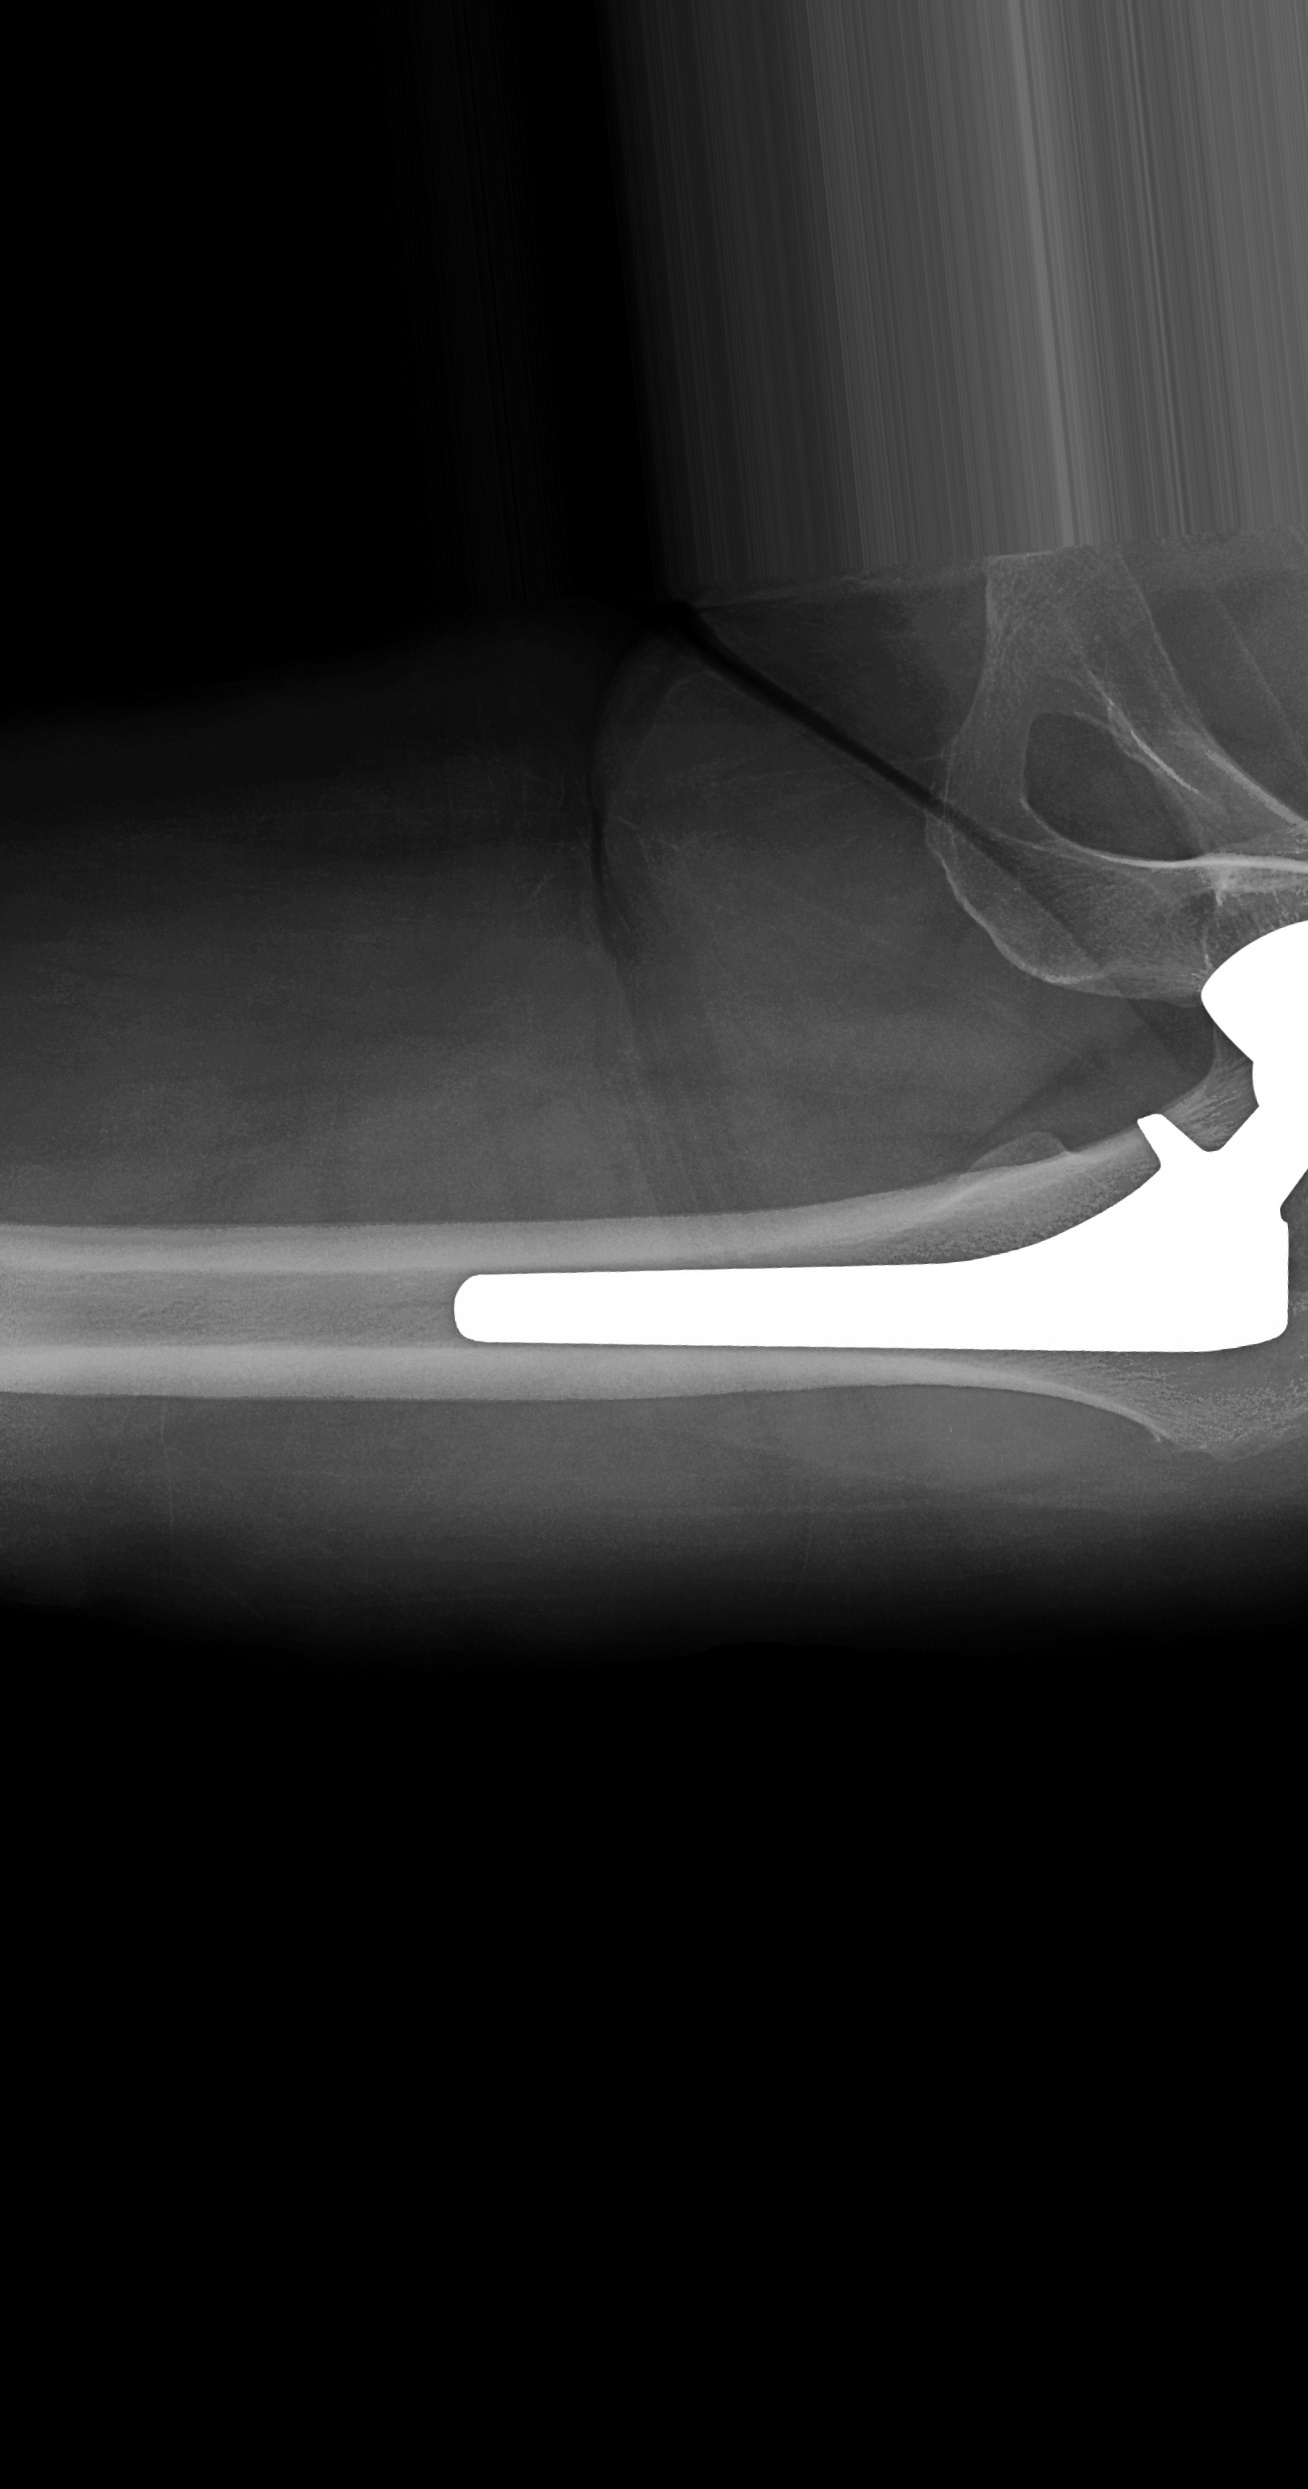Hip - APR - Zimmer: (342, 910, 1308, 1462)
